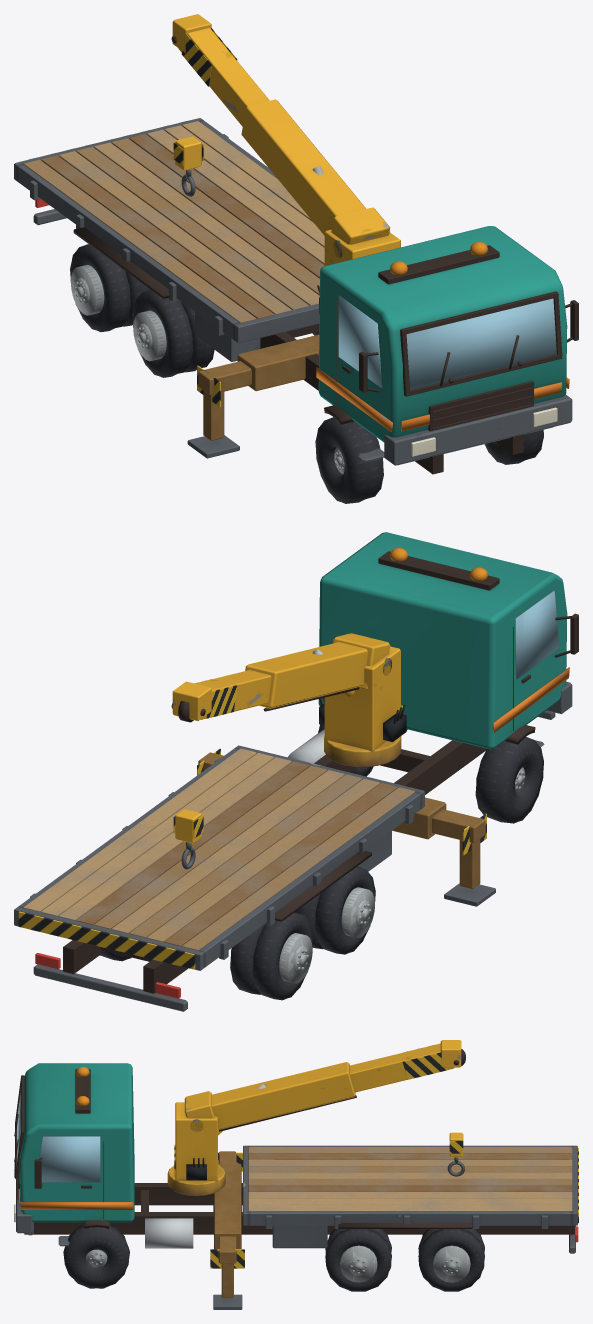
The model's file is Works_CraneTruck.fbx.
The picture shows the model from 3 angles, top to bottom: view 1: azimuth 30°, elevation 25°; view 2: azimuth 150°, elevation 25°; view 3: azimuth 270°, elevation 25°; orthographic projection. The views are drawn at different scales.
Visible parts, largest first — view 1: Body, CraneArm, Wheel_3, Wheel_1, Wheel_5, CraneBase, Hook, Wheel_0, CraneTip; view 2: Body, CraneArm, CraneBase, Wheel_5, Wheel_1, Wheel_3, CraneTip, Hook; view 3: Body, CraneArm, CraneBase, Wheel_4, Wheel_2, Wheel_0, CraneTip, Hook.
Part boxes in pixels (x1,y1,x2,y2): Body: [14, 118, 578, 474]; CraneArm: [178, 27, 390, 257]; Wheel_3: [132, 290, 214, 377]; Wheel_1: [315, 417, 383, 503]; Wheel_5: [70, 244, 150, 332]; CraneBase: [317, 229, 400, 314]; Hook: [173, 136, 203, 196]; Wheel_0: [484, 430, 543, 464]; CraneTip: [171, 14, 211, 52]; Body: [14, 532, 578, 1011]; CraneArm: [195, 633, 391, 719]; CraneBase: [319, 646, 406, 766]; Wheel_5: [230, 912, 313, 1000]; Wheel_1: [475, 737, 543, 823]; Wheel_3: [294, 867, 375, 954]; CraneTip: [171, 681, 211, 722]; Hook: [173, 809, 203, 869]; Body: [14, 1063, 578, 1309]; CraneArm: [184, 1043, 454, 1135]; CraneBase: [167, 1102, 225, 1195]; Wheel_4: [418, 1229, 484, 1291]; Wheel_2: [325, 1229, 391, 1291]; Wheel_0: [63, 1225, 129, 1288]; CraneTip: [440, 1040, 465, 1067]; Hook: [447, 1132, 464, 1176].
Bounding box in the file's own units: 3.62 × 3.41 × 8.2.
1 material, 1 textured.
